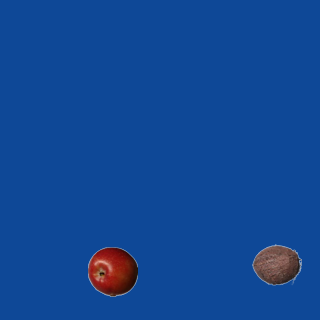Apple Braeburn: (87, 246, 137, 296)
Cocos: (251, 239, 301, 289)
